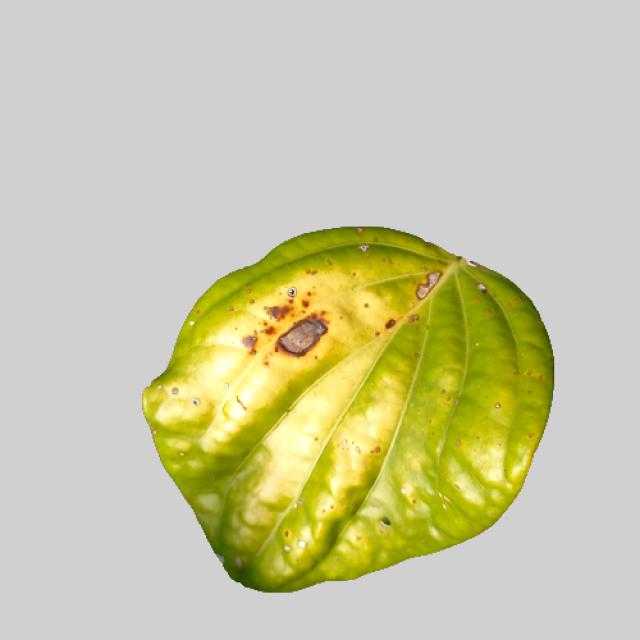leaf-blight: (142, 223, 572, 615)
